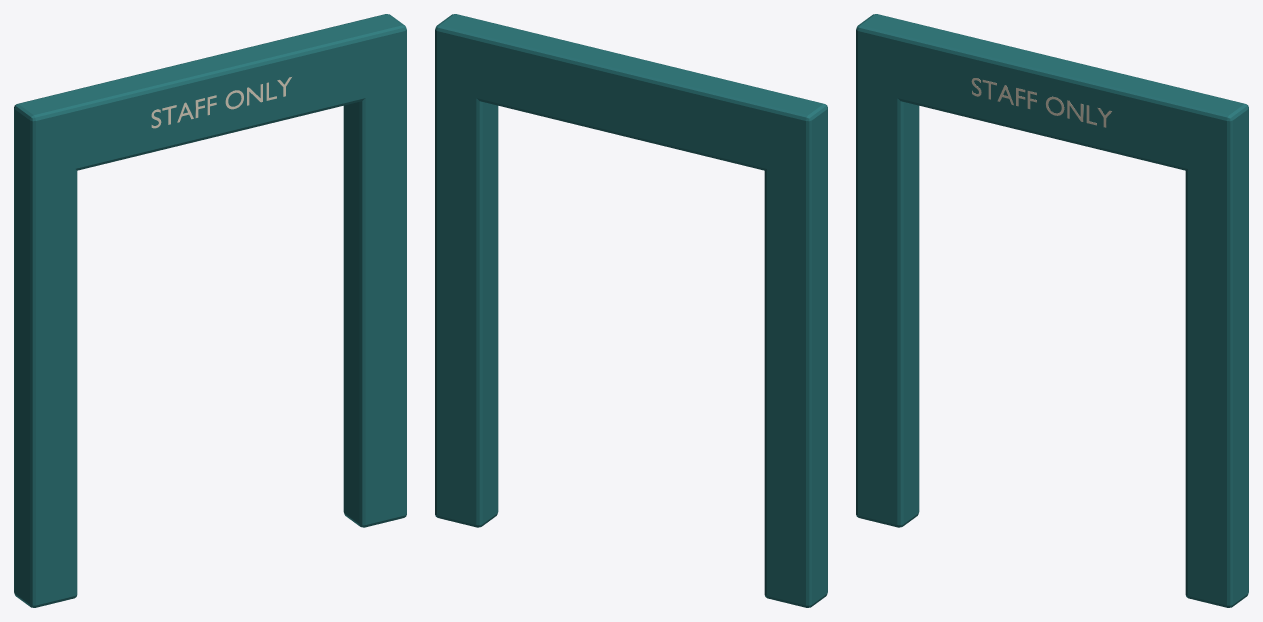
File: staff_doorway.glb
The picture shows the model from 3 angles, left to right: view 1: azimuth 30°, elevation 25°; view 2: azimuth 150°, elevation 25°; view 3: azimuth 330°, elevation 25°; orthographic projection.
Parts seen in each view (by area): view 1: staff_doorway; view 2: staff_doorway; view 3: staff_doorway.
Boxes of the visible parts, box(x1,y1,x2,y2) form: staff_doorway: box(14, 14, 406, 607); staff_doorway: box(435, 14, 827, 607); staff_doorway: box(856, 14, 1248, 607).
Size of the model in its own units: 2.4 by 3 by 0.2305.
